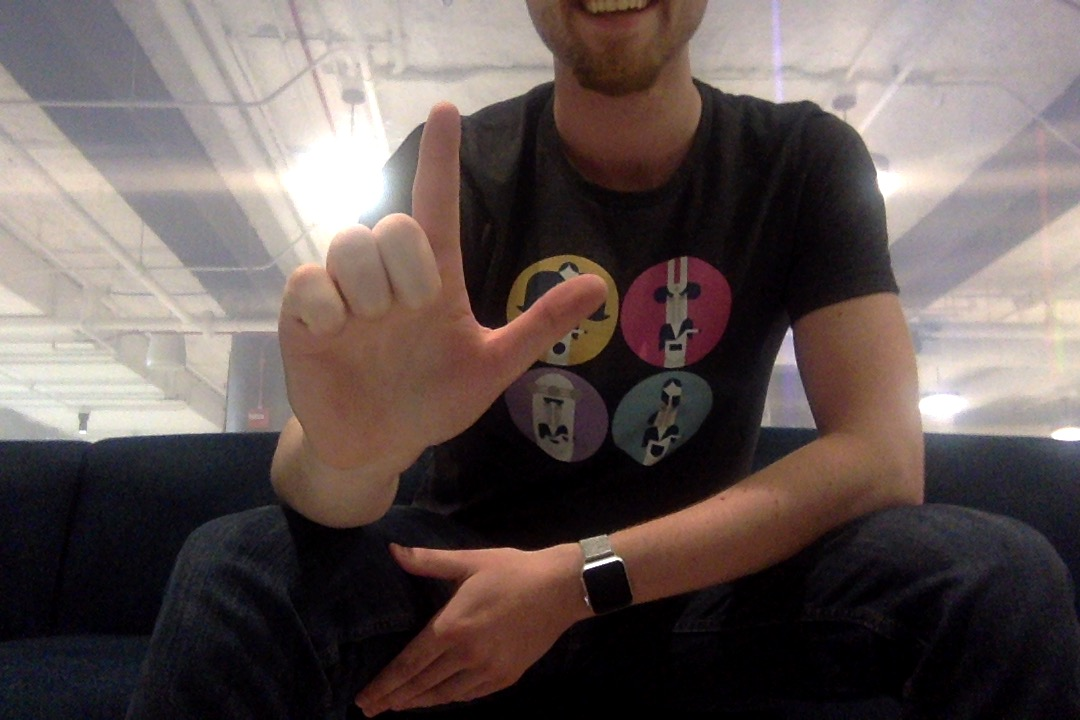l: (277, 99, 612, 456)
